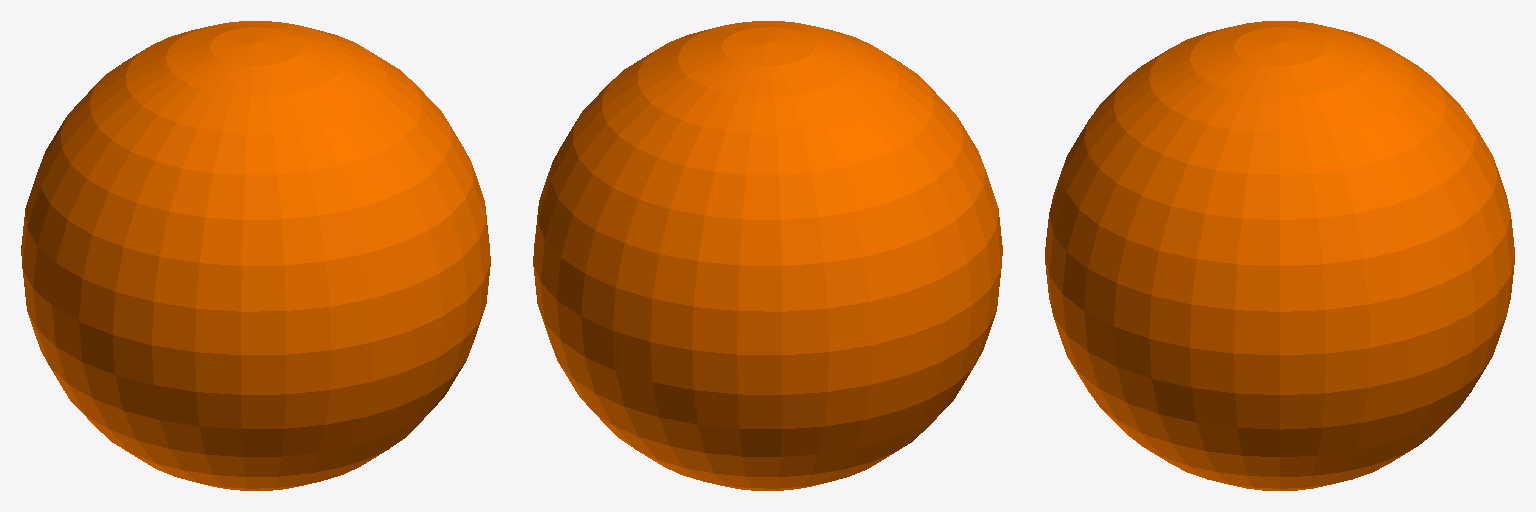
File: sun.obj
3 views of the same model, side by side, from view 1: azimuth 30°, elevation 25°; view 2: azimuth 150°, elevation 25°; view 3: azimuth 270°, elevation 25° (orthographic).
Parts seen in each view (by area): view 1: Sphere; view 2: Sphere; view 3: Sphere.
Boxes of the visible parts, <box> form: Sphere: <box>21,21,490,490</box>; Sphere: <box>533,21,1002,490</box>; Sphere: <box>1045,21,1514,490</box>.
Bounding box in the file's own units: 1.91 × 1.91 × 1.91.